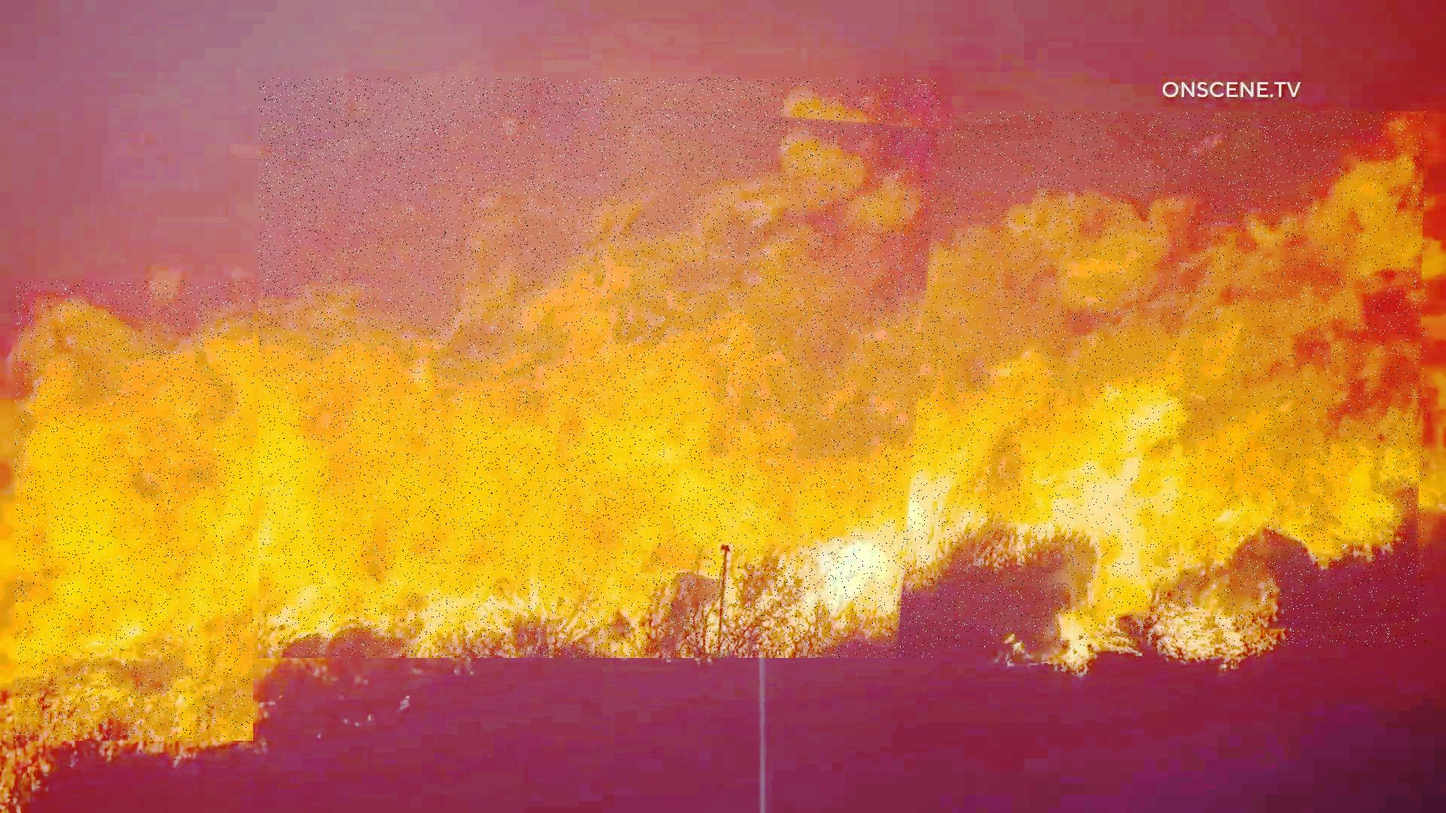fire: (258, 78, 940, 658), (938, 112, 1427, 648), (16, 281, 255, 741)
